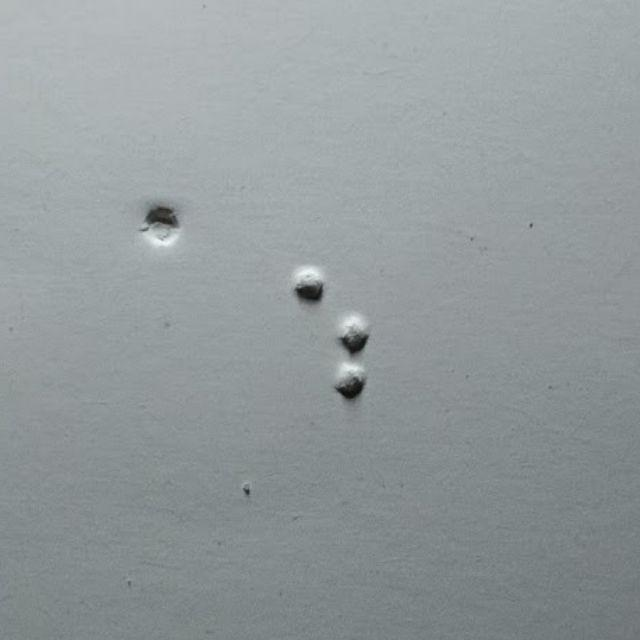an: (292, 266, 369, 405)
